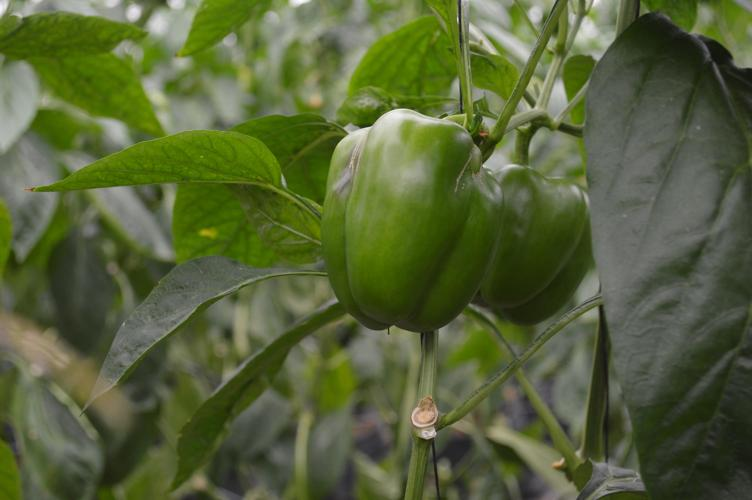BellPepper: (324, 112, 496, 334), (492, 171, 587, 323)
